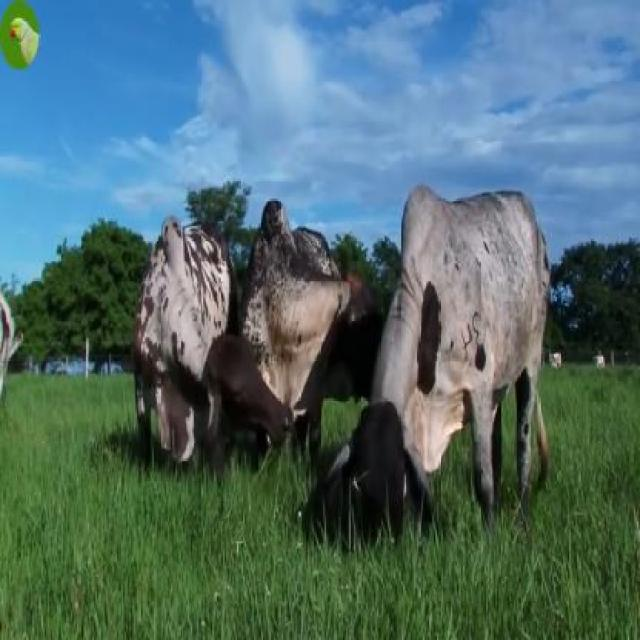Cow: (331, 188, 551, 546), (131, 215, 235, 492)
